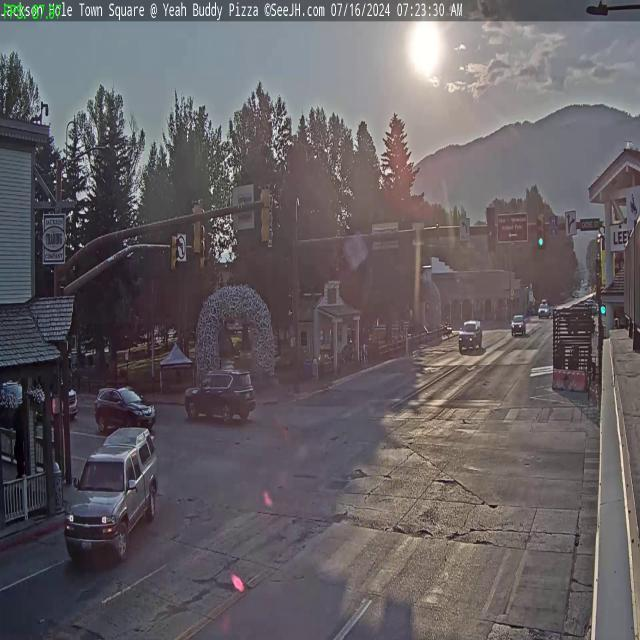suv: (63, 424, 161, 562), (184, 368, 258, 423), (94, 384, 156, 434), (458, 318, 483, 352), (511, 312, 527, 336)
traffic light: (260, 184, 274, 246), (190, 200, 204, 256), (486, 208, 496, 254), (170, 234, 180, 272), (536, 214, 546, 248)
